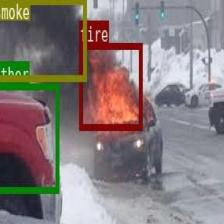fire: (79, 42, 142, 128)
smoke: (0, 0, 85, 81)
